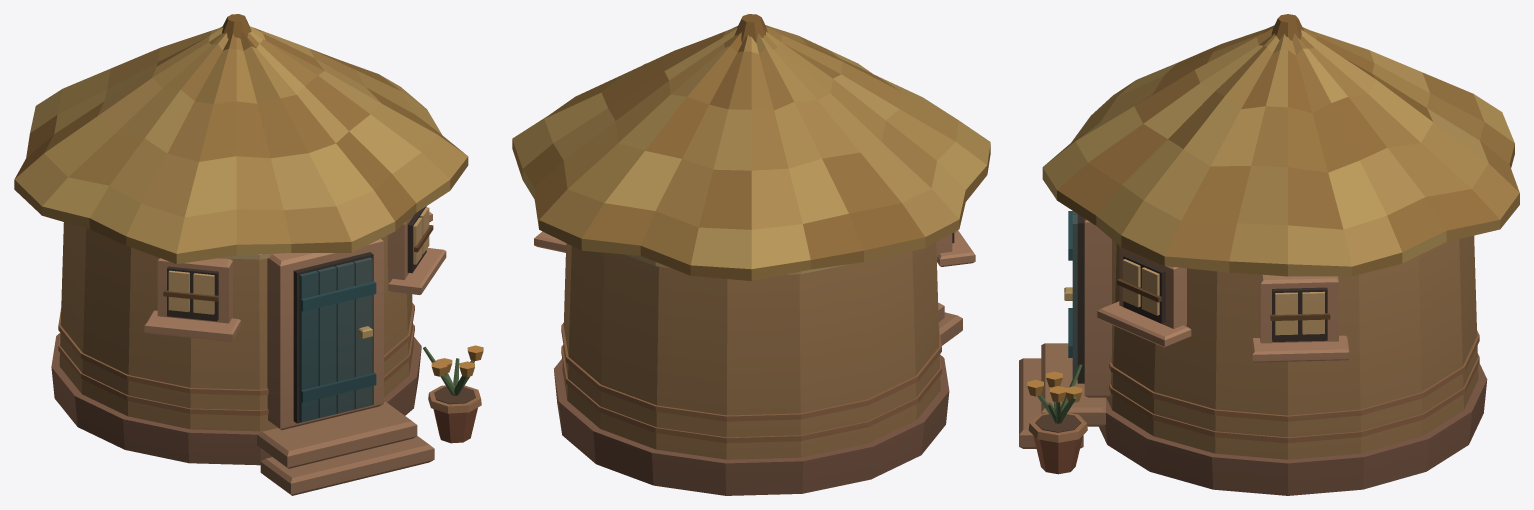
File: lake.glb
3 renders of one model, left to right at view 1: azimuth 30°, elevation 25°; view 2: azimuth 150°, elevation 25°; view 3: azimuth 270°, elevation 25°, orthographic. The views are drawn at different scales.
Parts seen in each view (by area): view 1: House; view 2: House; view 3: House.
Boxes of the visible parts, <box> form: House: <box>14,14,483,495</box>; House: <box>512,14,990,495</box>; House: <box>1019,14,1519,495</box>.
Bounding box in the file's own units: 2.81 × 2.56 × 2.94.
